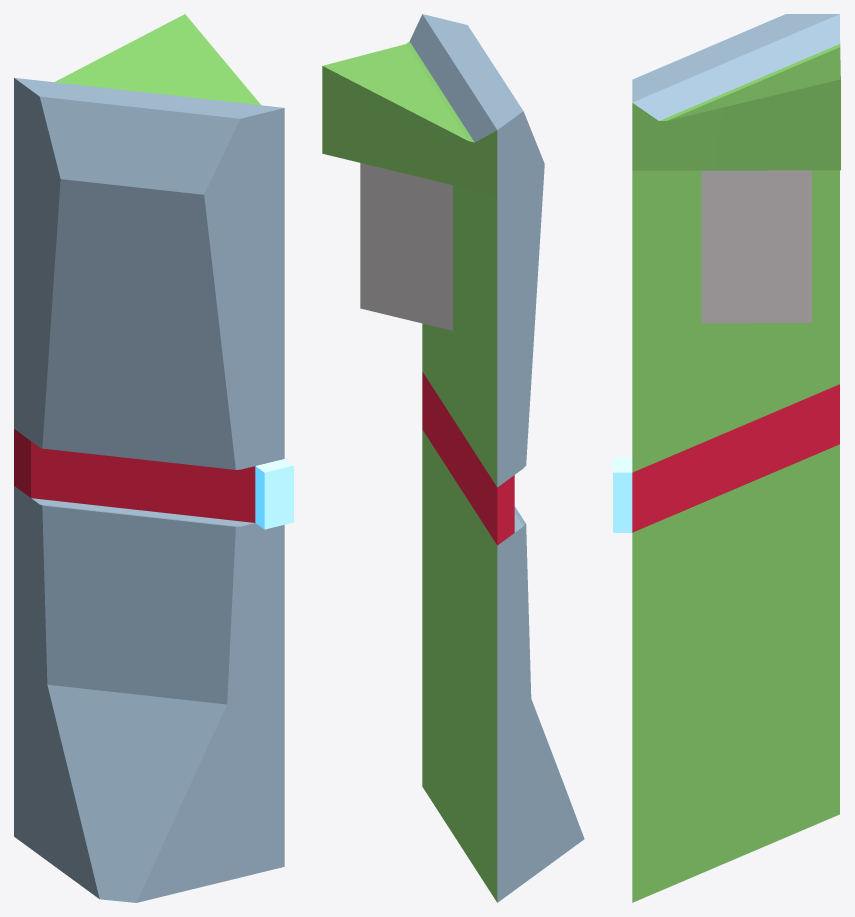
The model's file is MainColOutside.fbx.
The picture shows the model from 3 angles, left to right: view 1: azimuth 30°, elevation 25°; view 2: azimuth 150°, elevation 25°; view 3: azimuth 270°, elevation 25°; orthographic projection. The views are drawn at different scales.
Visible parts, largest first — view 1: Wall.022; view 2: Wall.022; view 3: Wall.022.
Boxes of the visible parts, box(x1,y1,x2,y2) form: Wall.022: box(14, 14, 293, 902); Wall.022: box(322, 14, 584, 902); Wall.022: box(613, 14, 840, 902).
Size of the model in its own units: 59.37 by 257 by 64.53.
